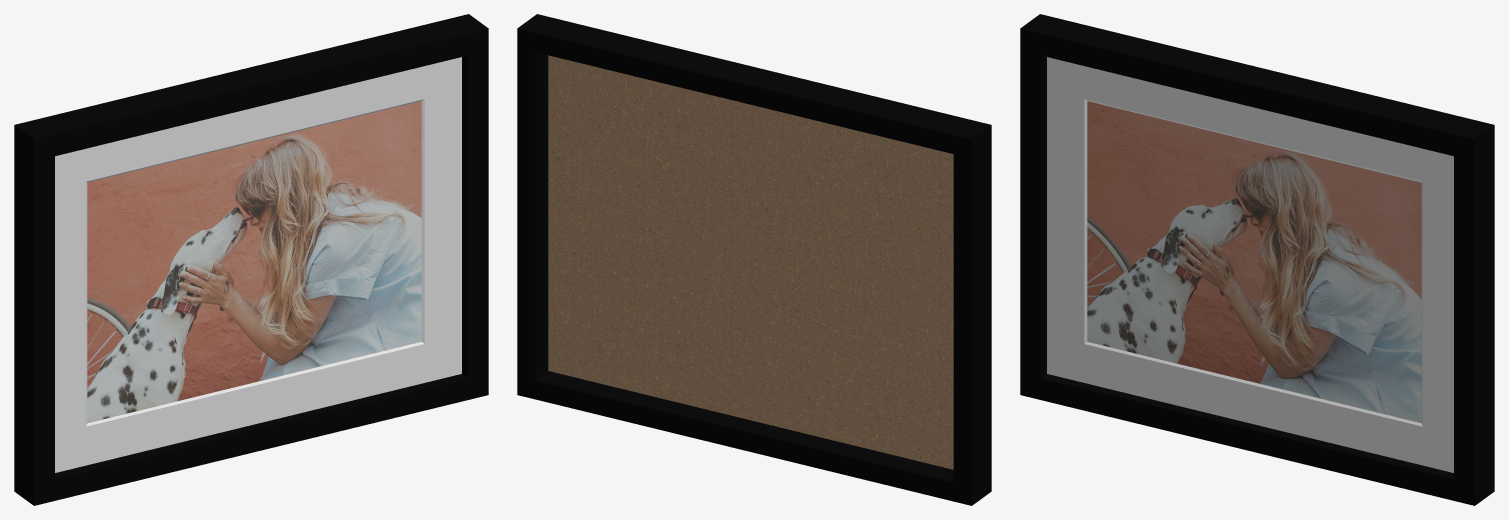
Rendered from ppt-black-frame-landscape-motif.glb.
The picture shows the model from 3 angles, left to right: view 1: azimuth 30°, elevation 25°; view 2: azimuth 150°, elevation 25°; view 3: azimuth 330°, elevation 25°; orthographic projection.
Visible parts, largest first — view 1: Glass, Motif, Frame, Passepartout; view 2: Back, Frame; view 3: Glass, Motif, Frame, Passepartout.
Part boxes in pixels (x1,y1,x2,y2): Glass: (55, 57, 461, 472); Motif: (87, 101, 421, 422); Frame: (14, 14, 488, 505); Passepartout: (55, 57, 461, 472); Back: (548, 55, 953, 469); Frame: (517, 14, 991, 505); Glass: (1047, 57, 1453, 472); Motif: (1087, 101, 1421, 422); Frame: (1020, 14, 1494, 505); Passepartout: (1047, 57, 1453, 472).
Bounding box in the file's own units: 0.435 × 0.335 × 0.033.
5 materials, 2 textured.
